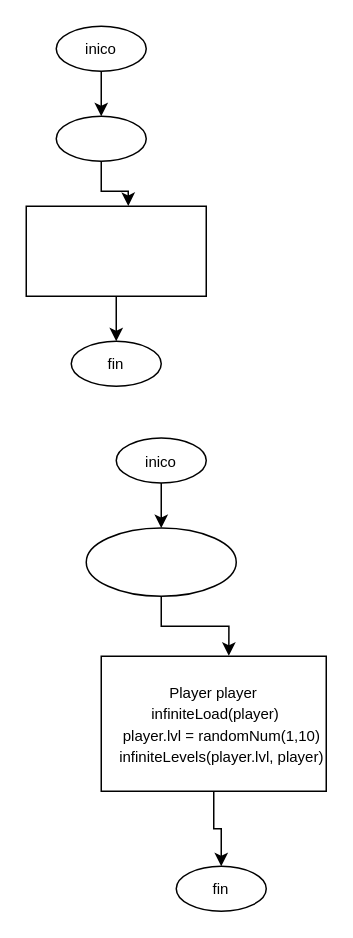
Image size: 353x938. Some labels were removed from this diagram. The shapes that lost their labels are listed below. From the top down, each one's centre as x and y in pixels, then its label:
At point 100,138: "game()".
At point 115,250: "Player player; load(player) levelSelector(player.lvl, player)".
At point 160,561: "infiniteMode()".
